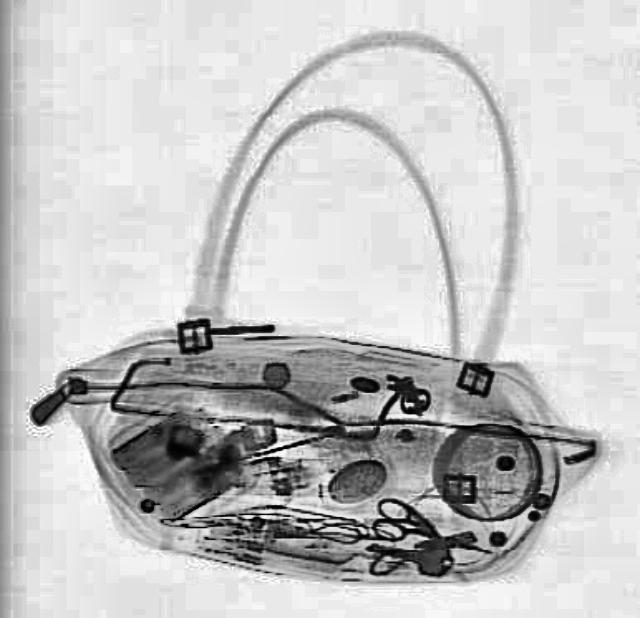Scissors: (362, 493, 496, 571)
